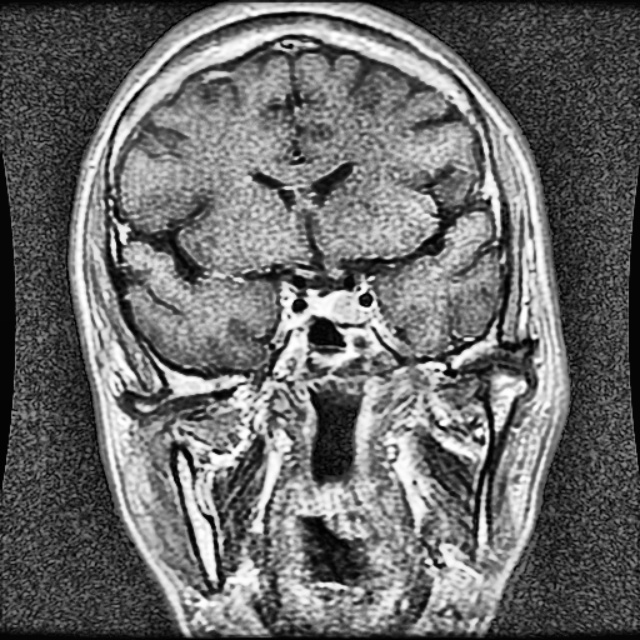Pituitary: (310, 290, 358, 320)
